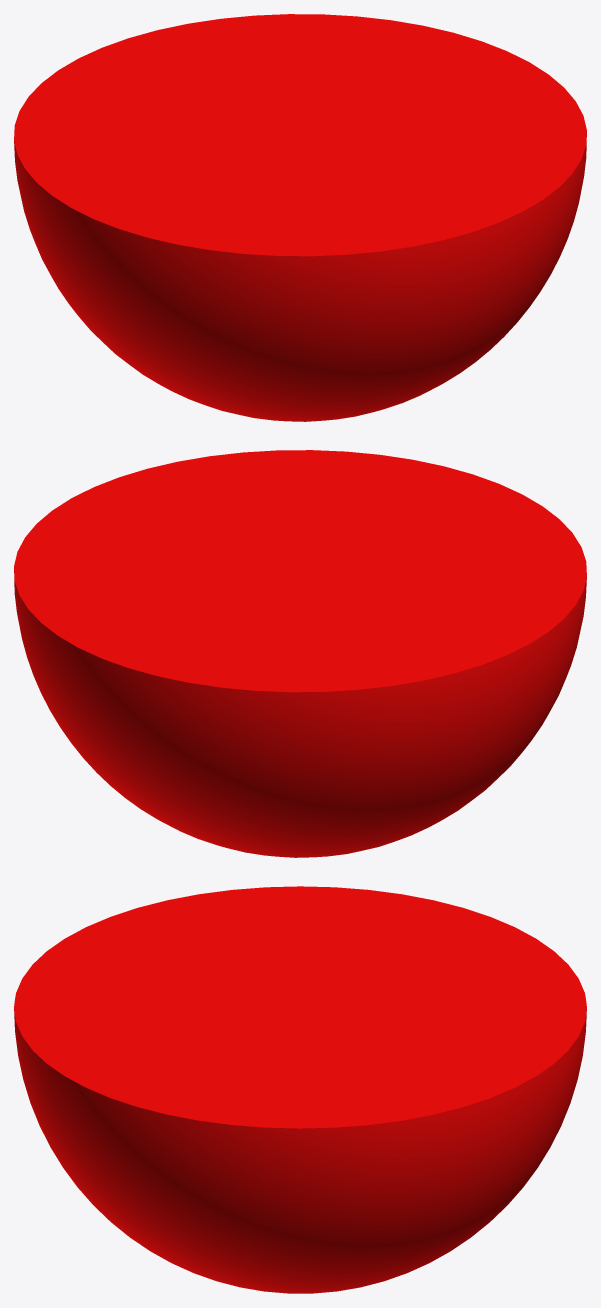
File: red_led.dae
3 views of the same model, one above another, from view 1: azimuth 30°, elevation 25°; view 2: azimuth 150°, elevation 25°; view 3: azimuth 270°, elevation 25° (orthographic).
Visible parts, largest first — view 1: Body_1; view 2: Body_1; view 3: Body_1.
Boxes of the visible parts, box(x1,y1,x2,y2) form: Body_1: box(14, 14, 586, 421); Body_1: box(14, 450, 586, 857); Body_1: box(14, 886, 586, 1293).
Bounding box in the file's own units: 0.0419 × 0.0419 × 0.0209.
